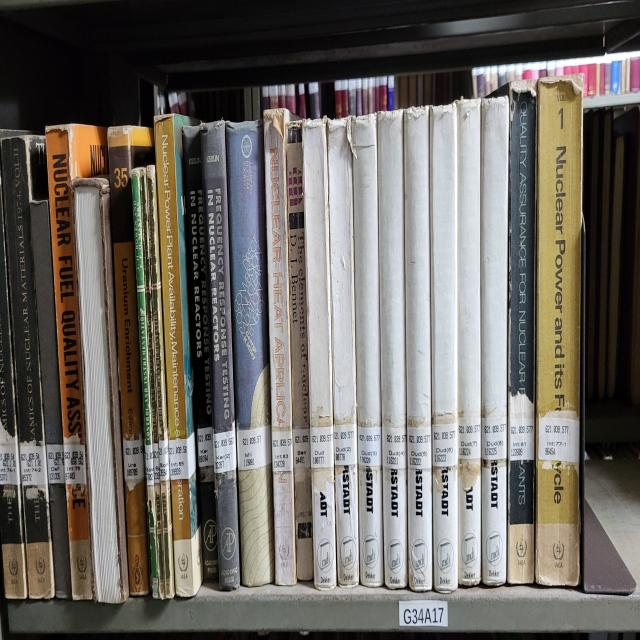Book: (45, 124, 108, 601), (1, 135, 55, 598), (535, 78, 582, 587), (226, 119, 275, 587), (155, 114, 202, 598), (108, 124, 155, 595), (131, 165, 175, 598), (200, 122, 240, 590), (499, 81, 536, 584), (182, 124, 219, 582), (30, 200, 71, 598), (302, 119, 336, 590), (351, 114, 384, 587), (264, 108, 296, 584), (328, 119, 359, 587), (378, 111, 408, 587), (481, 95, 509, 584), (430, 103, 458, 590), (404, 106, 432, 590), (286, 122, 314, 582), (456, 97, 481, 587), (0, 176, 28, 598)
Label: (539, 417, 580, 463), (236, 425, 271, 471), (0, 419, 20, 484), (169, 433, 196, 479), (20, 444, 48, 487), (432, 422, 458, 468), (122, 436, 144, 490), (214, 422, 236, 473), (481, 417, 506, 460), (310, 425, 334, 468), (509, 419, 534, 460), (408, 425, 431, 468), (358, 425, 381, 468), (271, 430, 294, 473), (382, 427, 406, 468), (334, 425, 358, 465), (459, 417, 481, 460), (64, 441, 86, 484), (46, 444, 65, 484), (294, 427, 310, 468), (198, 427, 214, 468), (159, 438, 170, 482), (152, 444, 160, 484)
